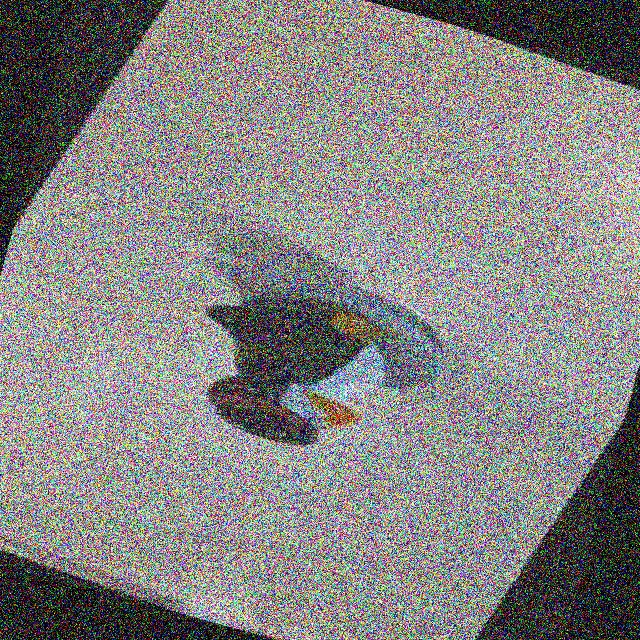Penguin: (106, 220, 497, 522)
